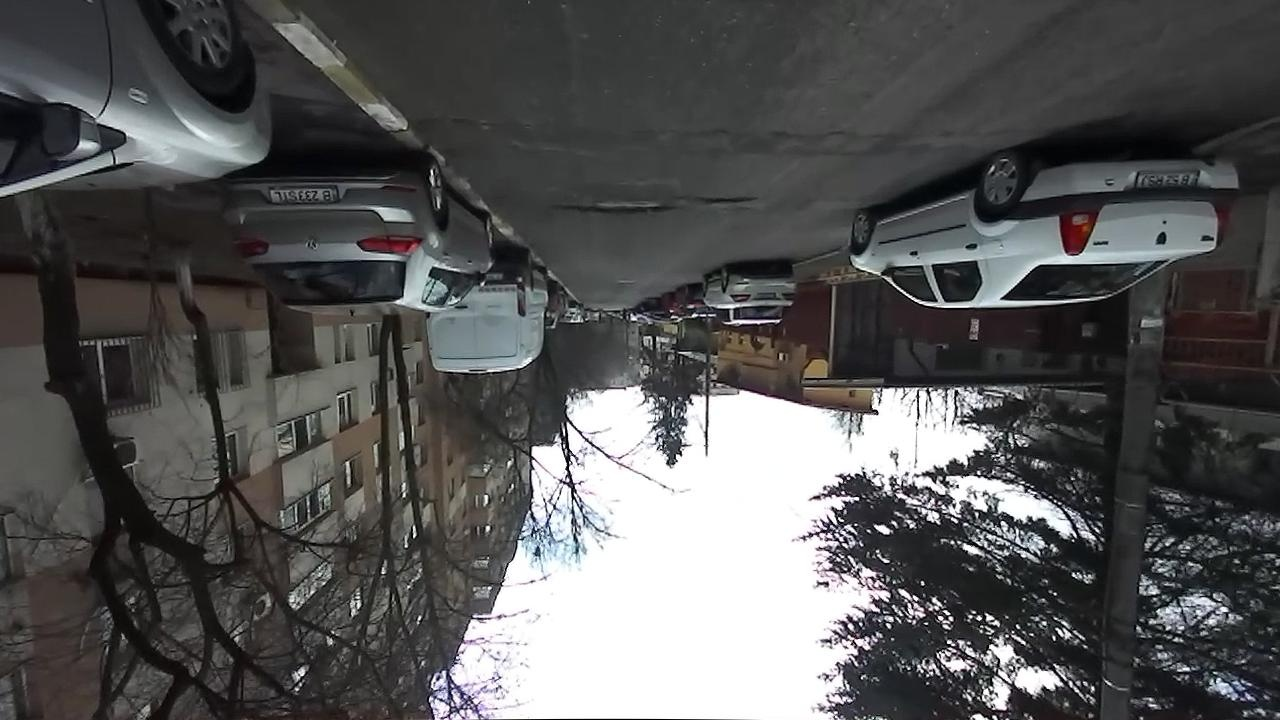pothole: (549, 195, 677, 217), (689, 193, 758, 207)
